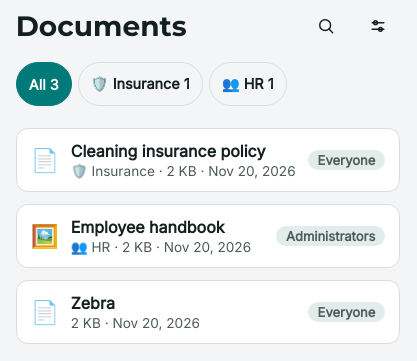
Documents page › filters by category with counts
Expected: the text "Zebra" is shown, [71, 293, 115, 313]
Click the button "👥 HR 1".
click(248, 84)  # box [209, 62, 286, 106]
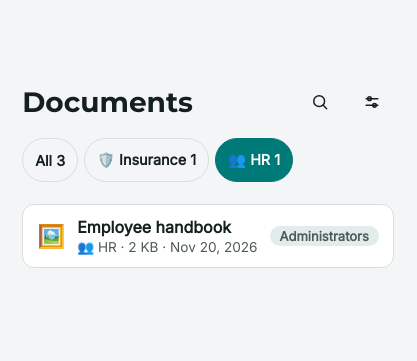
Expected: the text "Employee handbook" is shown, [77, 217, 258, 237]
Expected: the button "Zebra" is gone
